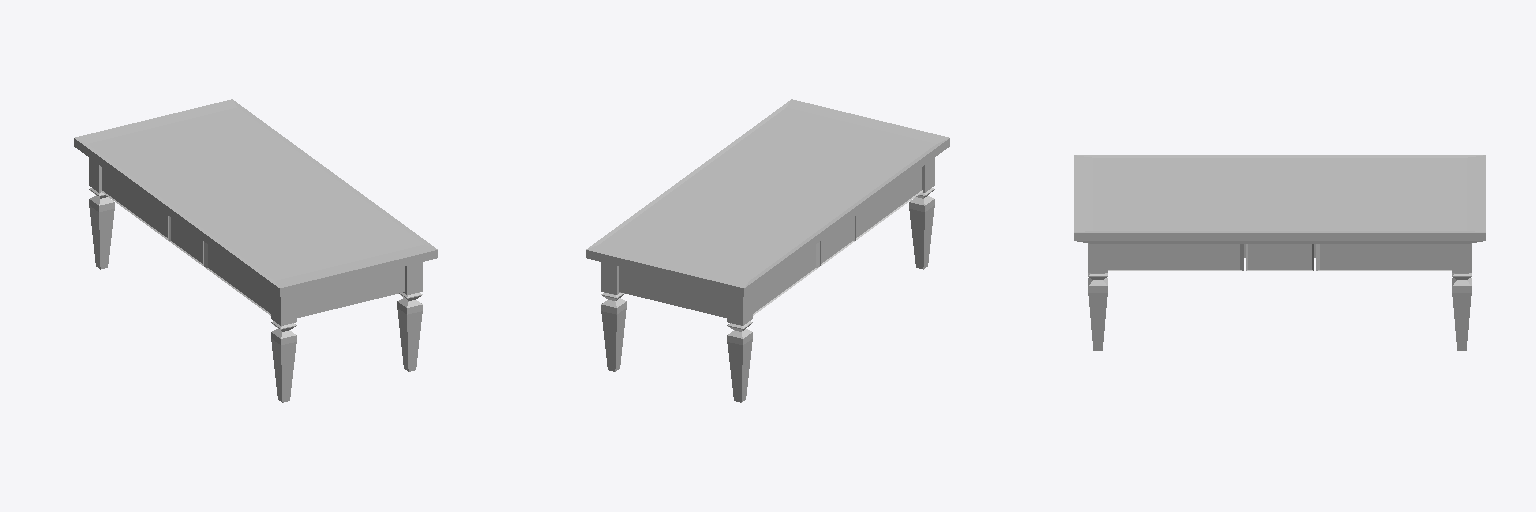
Rendered from Table2.obj.
3 views of the same model, side by side, from view 1: azimuth 30°, elevation 25°; view 2: azimuth 150°, elevation 25°; view 3: azimuth 270°, elevation 25° (orthographic).
Parts seen in each view (by area): view 1: Cube.003_Cube.007; view 2: Cube.003_Cube.007; view 3: Cube.003_Cube.007.
Part boxes in pixels (x1,y1,x2,y2): Cube.003_Cube.007: (74,99,437,402); Cube.003_Cube.007: (586,99,949,402); Cube.003_Cube.007: (1074,155,1485,350).
Size of the model in its own units: 5.51 by 4.13 by 12.4.